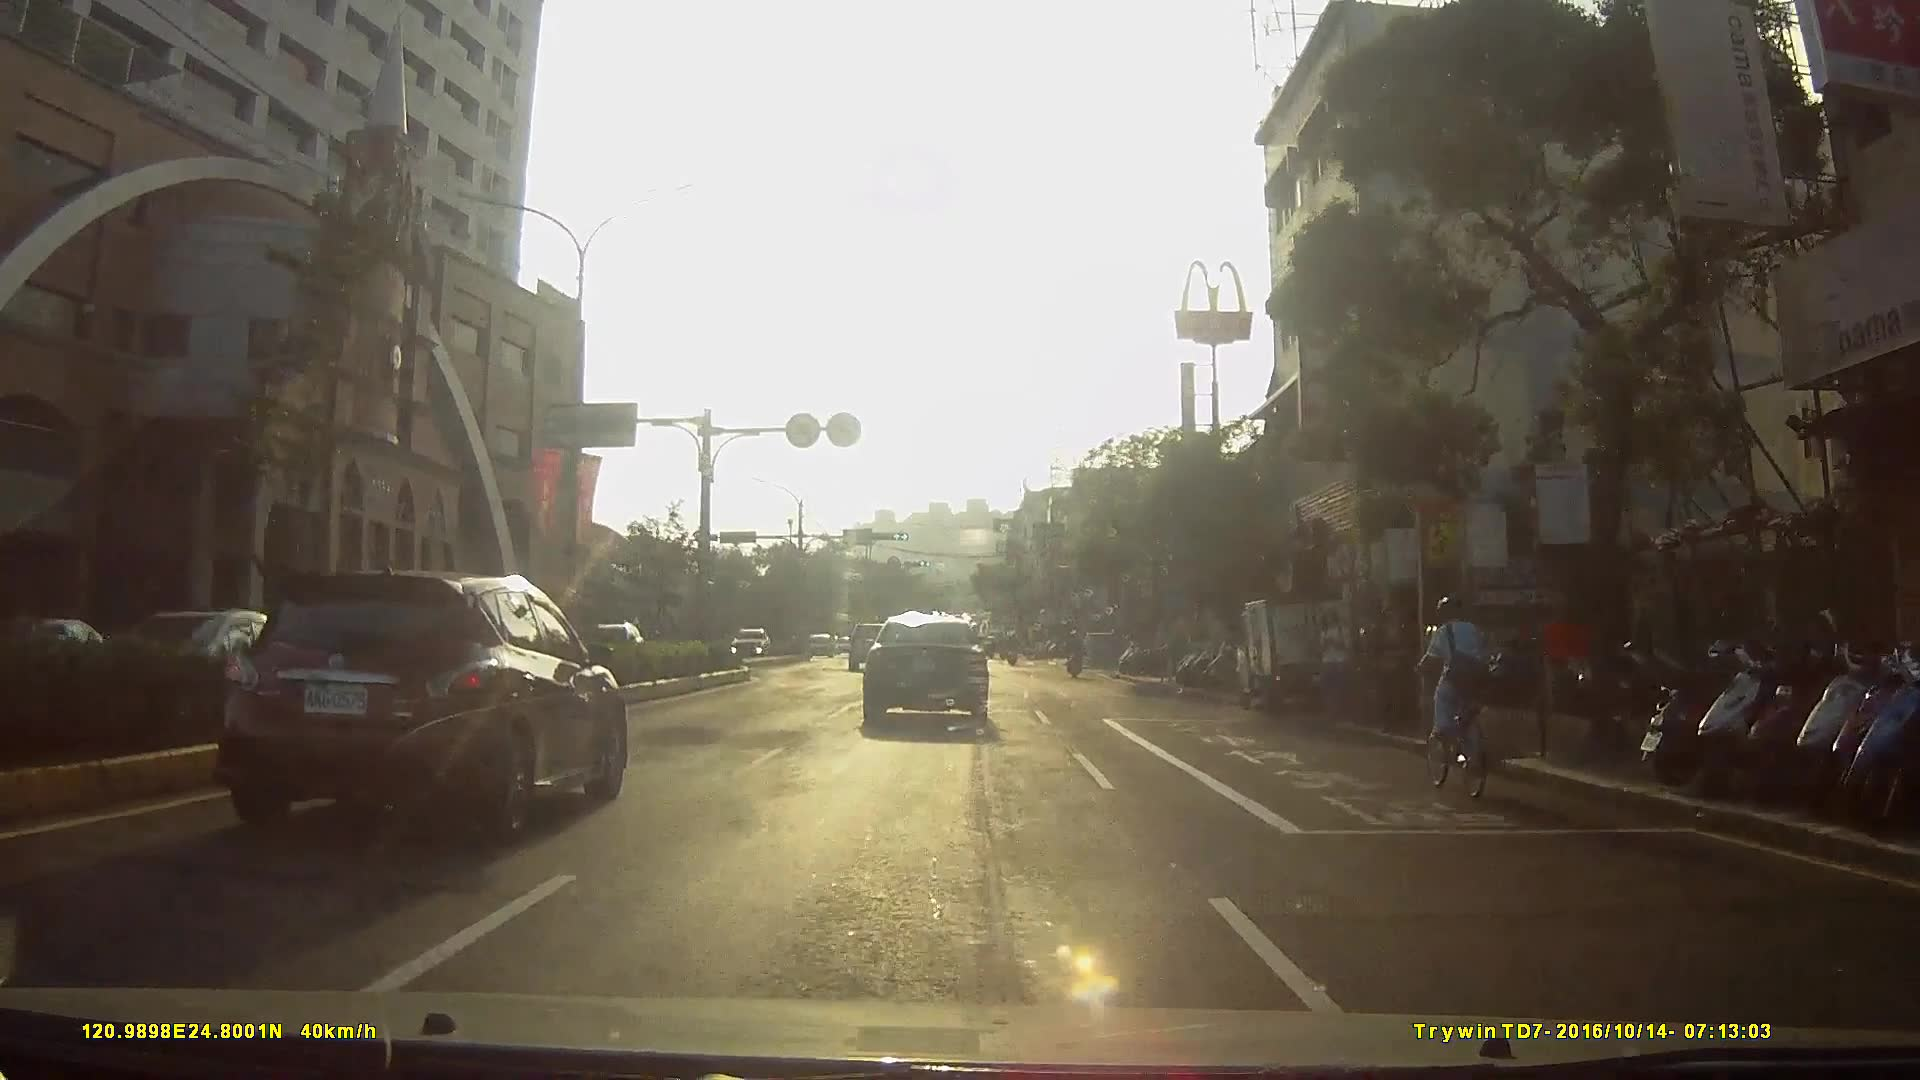pedestrian: (1315, 603, 1352, 721)
rider: (1406, 596, 1498, 804), (1065, 627, 1091, 684)
vehicle: (199, 564, 639, 836), (861, 610, 1007, 737), (1245, 593, 1385, 720), (845, 621, 904, 676), (724, 625, 773, 661), (799, 629, 830, 660)
